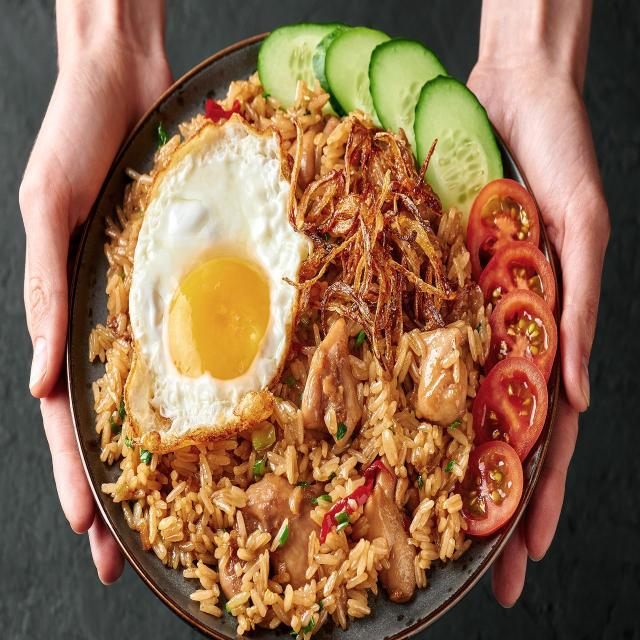Nasi Goreng: (99, 90, 533, 598)
